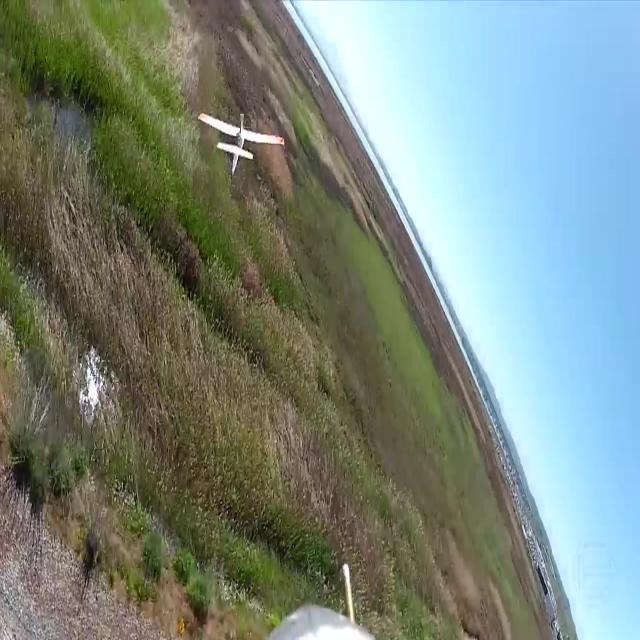iha: (230, 142, 252, 145)
